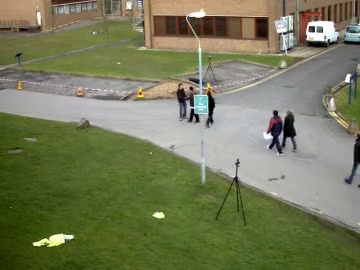person: (176, 82, 195, 122), (176, 81, 195, 120), (176, 84, 195, 122)
